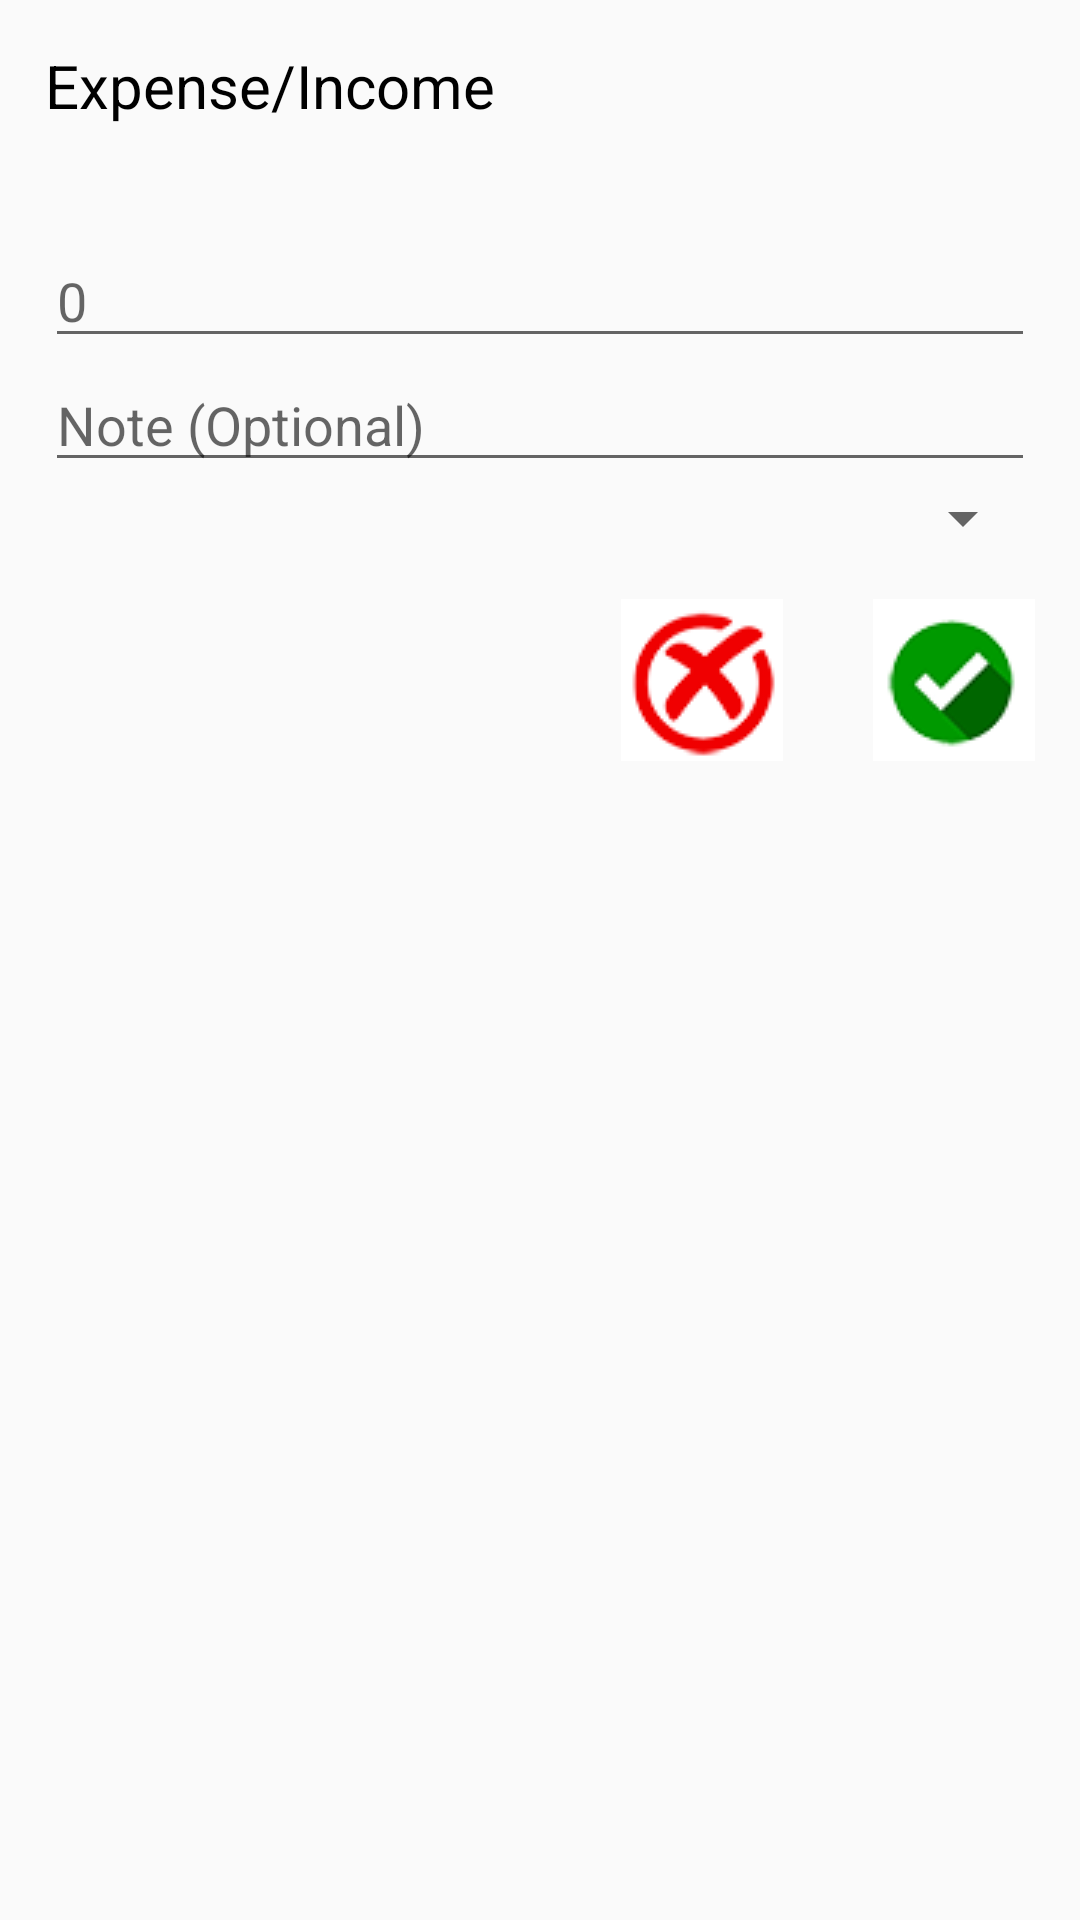

Icon bounding boxes for this 1080 × 1920 phone screenshot, format (x1=x1, y1=y1, x2=x2, y2=y2):
cross: (x1=632, y1=612, x2=775, y2=756)
tick: (x1=887, y1=619, x2=1015, y2=747)
